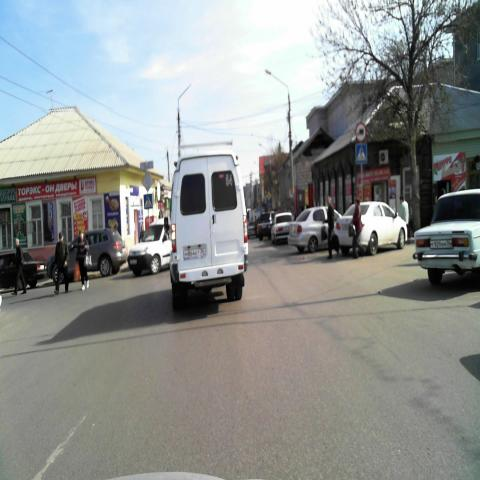3_4_1: (356, 123, 366, 142)
5_19_1: (355, 142, 368, 164), (144, 192, 154, 210)
